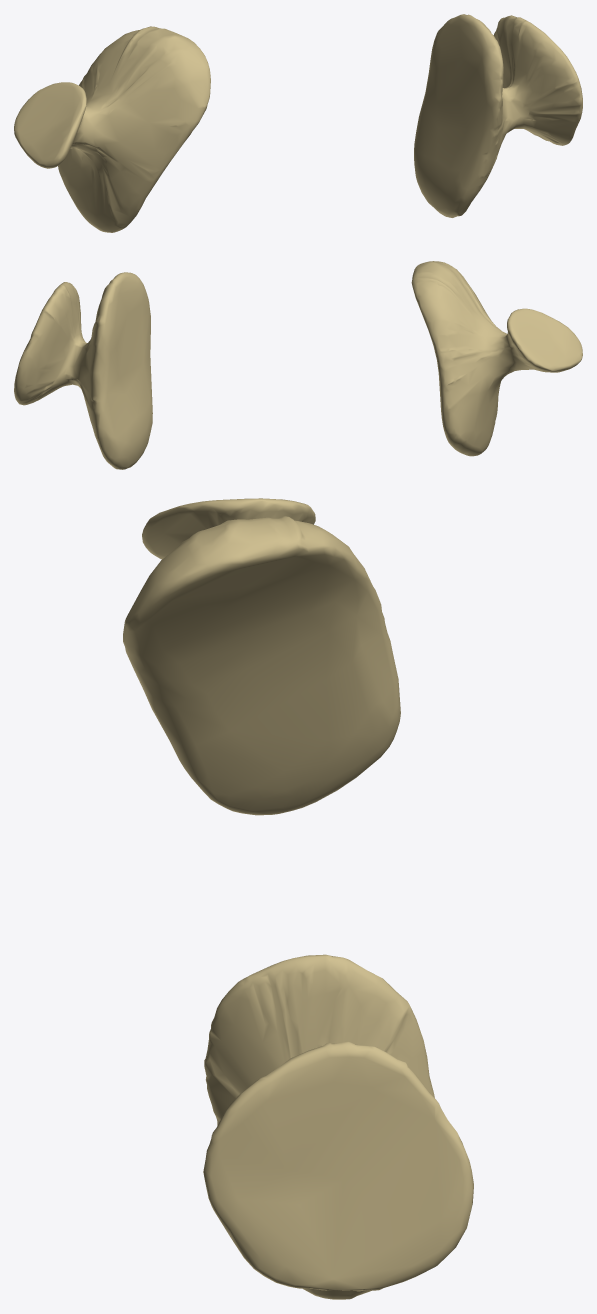
3 views of the same model, one above another, from view 1: azimuth 30°, elevation 25°; view 2: azimuth 150°, elevation 25°; view 3: azimuth 270°, elevation 25° (orthographic). The views are drawn at different scales.
Visible parts, largest first — view 1: 右侧眼球悬韧带; view 2: 右侧眼球悬韧带; view 3: 右侧眼球悬韧带.
Part boxes in pixels (x1,y1,x2,y2): 右侧眼球悬韧带: (14,14,582,232); 右侧眼球悬韧带: (14,261,582,469); 右侧眼球悬韧带: (123,498,473,1299).
Size of the model in its own units: 0.057 by 0.0271 by 0.0172.
